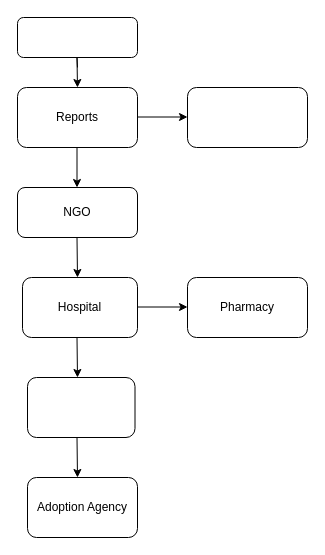
Image size: 325x555. Some labels were removed from this diagram. The centre of each missing label's shape, as x and y in pixels:
"End User" goes at point (77, 37).
"Map" goes at point (247, 117).
"Shelter" goes at point (80, 407).
